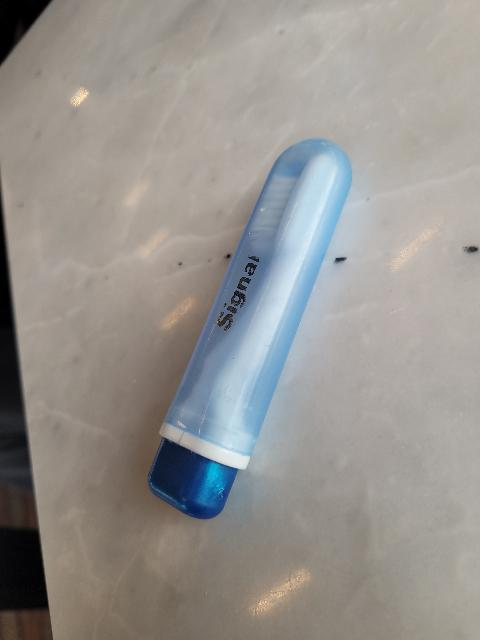Plastik: (136, 130, 357, 524)
